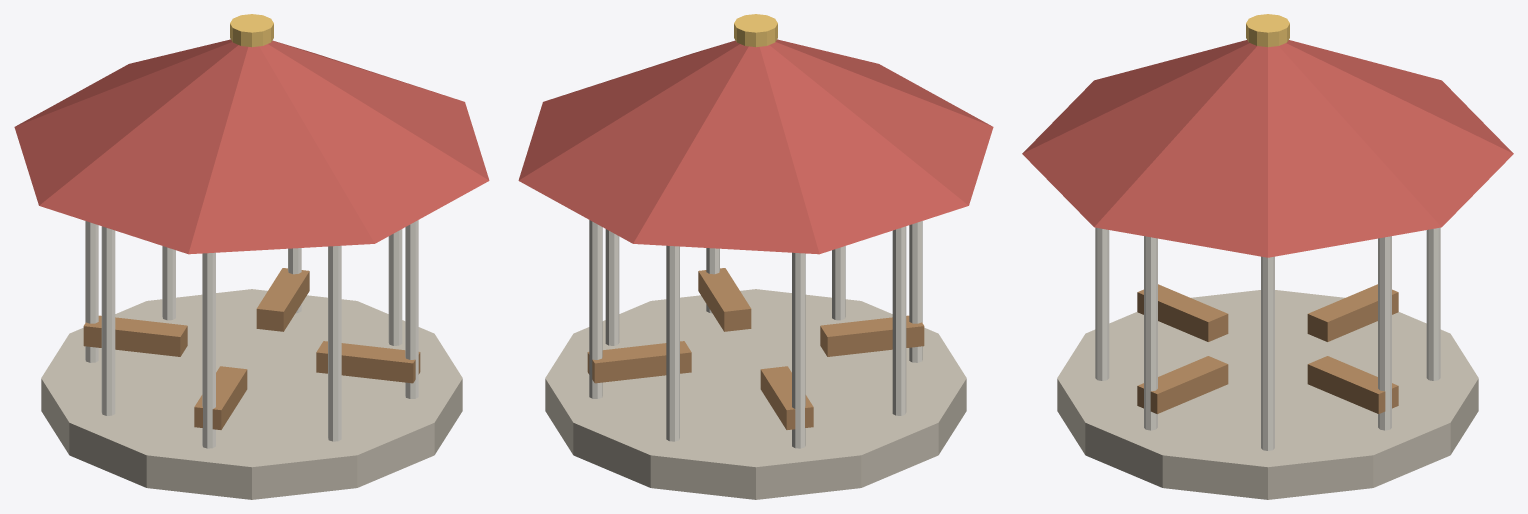
File: lakeside-gazebo.glb
3 views of the same model, side by side, from view 1: azimuth 30°, elevation 25°; view 2: azimuth 150°, elevation 25°; view 3: azimuth 270°, elevation 25° (orthographic).
Parts seen in each view (by area): view 1: Gazebo_Roof, Gazebo_Base, Gazebo_Bench_1, Gazebo_Post_4, Gazebo_Bench_3, Gazebo_Post_6, Gazebo_Post_5, Gazebo_Bench_0, Gazebo_Post_7, Gazebo_Bench_2, Gazebo_Post_0, Gazebo_Post_3 (+2 smaller); view 2: Gazebo_Roof, Gazebo_Base, Gazebo_Bench_2, Gazebo_Post_4, Gazebo_Bench_0, Gazebo_Post_2, Gazebo_Post_3, Gazebo_Bench_3, Gazebo_Post_1, Gazebo_Bench_1, Gazebo_Post_0, Gazebo_Post_5 (+2 smaller); view 3: Gazebo_Roof, Gazebo_Base, Gazebo_Bench_0, Gazebo_Bench_3, Gazebo_Post_0, Gazebo_Bench_1, Gazebo_Bench_2, Gazebo_Post_1, Gazebo_Post_7, Gazebo_Post_2, Gazebo_Post_6, Gazebo_Roof_Cap.
Part boxes in pixels (x1,y1,x2,y2): Gazebo_Roof: (14, 39, 489, 254); Gazebo_Base: (41, 289, 462, 499); Gazebo_Bench_1: (83, 315, 187, 356); Gazebo_Post_4: (101, 226, 115, 415); Gazebo_Bench_3: (316, 341, 420, 383); Gazebo_Post_6: (328, 245, 341, 441); Gazebo_Post_5: (202, 252, 215, 448); Gazebo_Bench_0: (256, 268, 309, 331); Gazebo_Post_7: (405, 220, 418, 398); Gazebo_Bench_2: (194, 366, 247, 429); Gazebo_Post_0: (388, 229, 402, 345); Gazebo_Post_3: (85, 221, 98, 362); Gazebo_Roof: (518, 39, 993, 254); Gazebo_Base: (545, 289, 966, 499); Gazebo_Bench_2: (820, 315, 924, 356); Gazebo_Post_4: (892, 226, 906, 415); Gazebo_Bench_0: (587, 341, 691, 383); Gazebo_Post_2: (666, 245, 679, 441); Gazebo_Post_3: (792, 252, 805, 448); Gazebo_Bench_3: (698, 268, 751, 331); Gazebo_Post_1: (589, 220, 602, 398); Gazebo_Bench_1: (760, 366, 813, 429); Gazebo_Post_0: (605, 229, 619, 345); Gazebo_Post_5: (909, 221, 922, 362); Gazebo_Roof: (1022, 40, 1513, 257); Gazebo_Base: (1057, 290, 1478, 499); Gazebo_Bench_0: (1307, 356, 1398, 413); Gazebo_Bench_3: (1137, 356, 1228, 413); Gazebo_Post_0: (1261, 256, 1274, 450); Gazebo_Bench_1: (1307, 284, 1398, 341); Gazebo_Bench_2: (1137, 284, 1228, 341); Gazebo_Post_1: (1378, 236, 1391, 430); Gazebo_Post_7: (1144, 236, 1157, 430); Gazebo_Post_2: (1426, 227, 1440, 380); Gazebo_Post_6: (1095, 227, 1109, 380); Gazebo_Roof_Cap: (1246, 14, 1289, 47).
Size of the model in its own units: 4.9 by 4.26 by 4.9.
